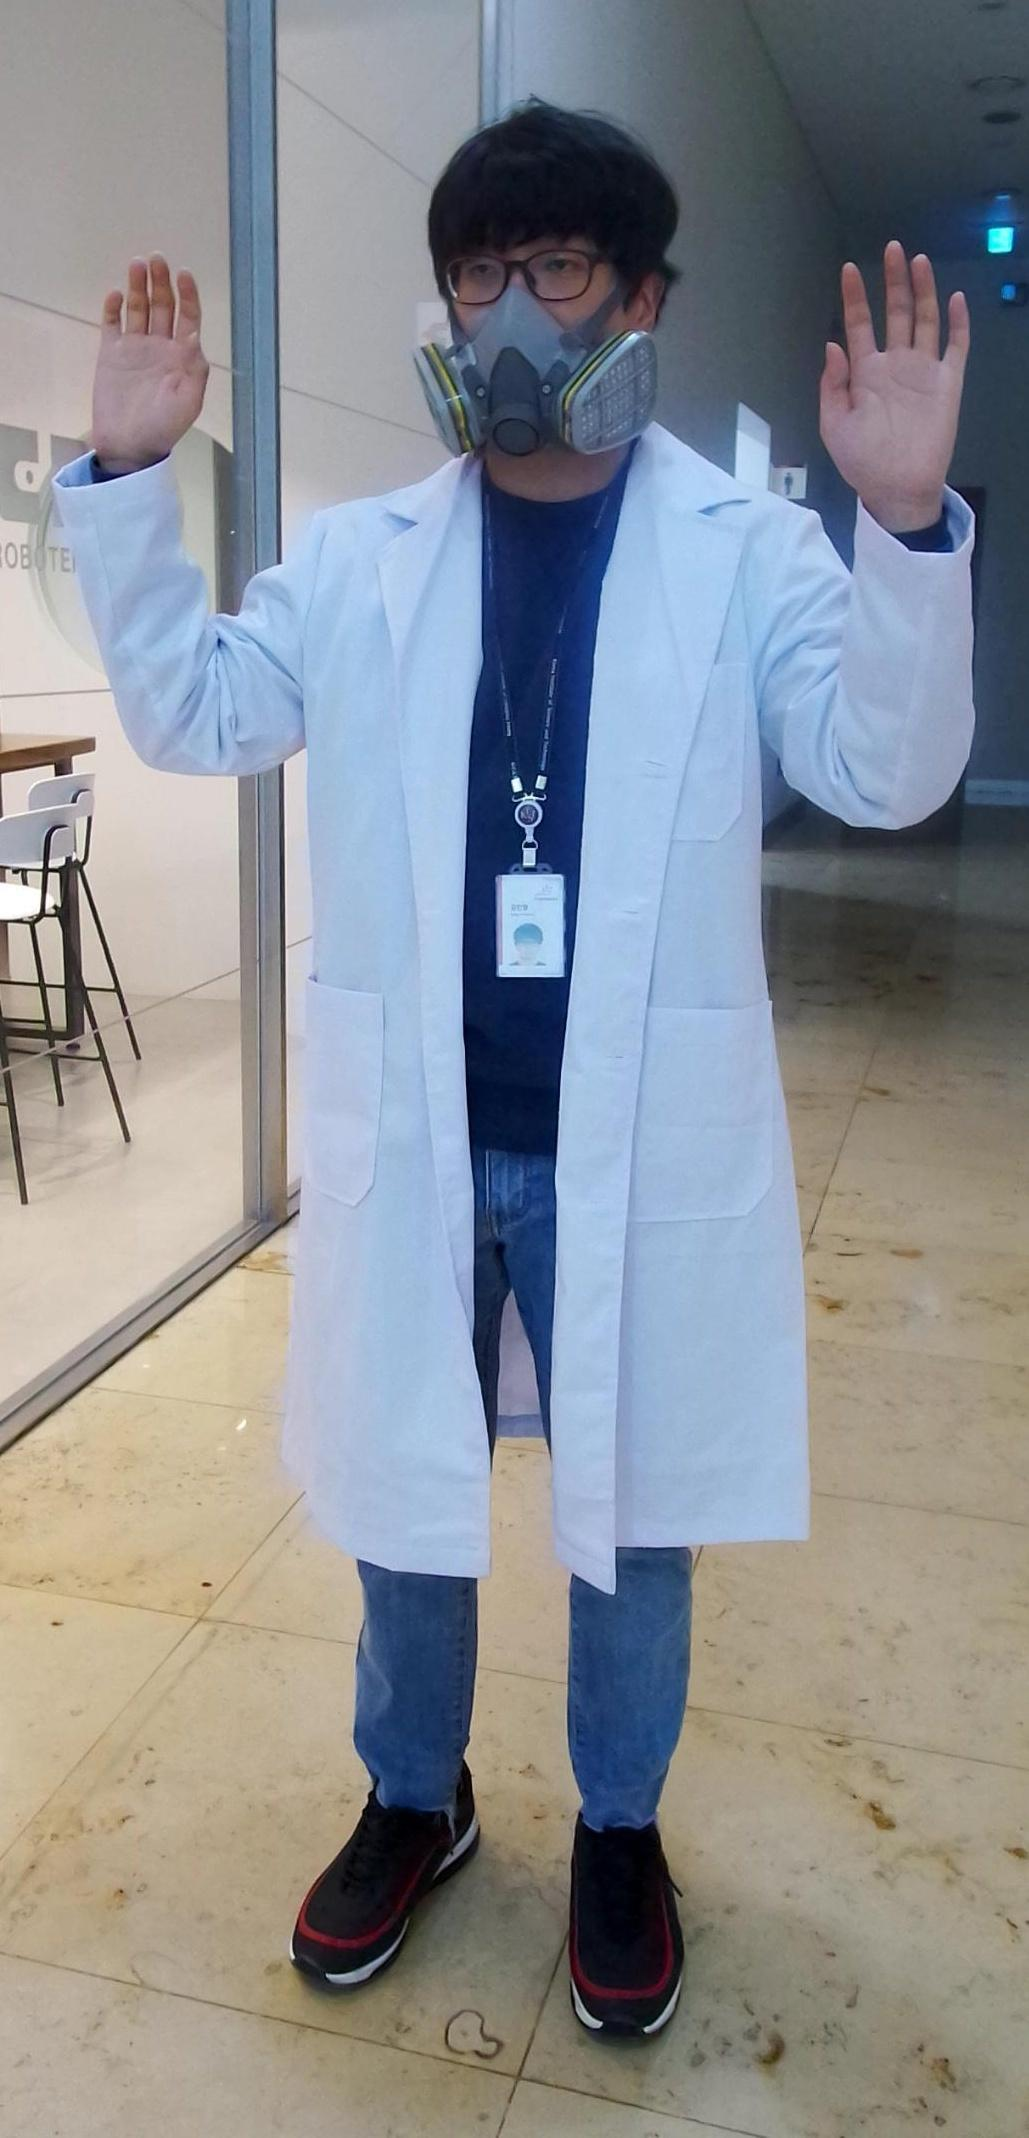lab_coat: (252, 485, 820, 1534)
